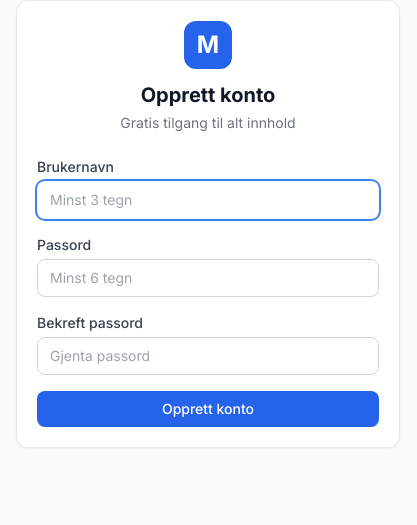
it: RegisterForm › viser feil ved for kort brukernavn
The width and height of the screenshot is (417, 525).
Type "ab" into the field labelled "Brukernavn" at {"x": 208, "y": 200}, box [37,181,379,219]
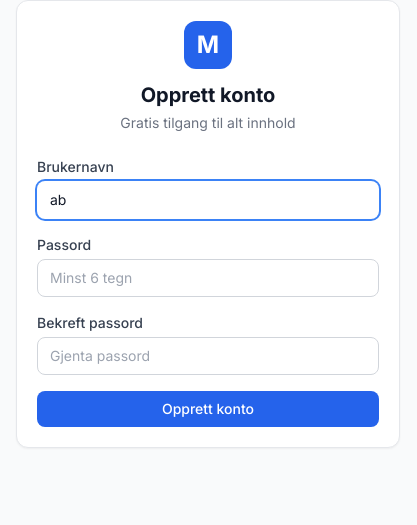
Type "password123" into the password field labelled "Passord" at {"x": 208, "y": 278}, box [37,259,379,297]
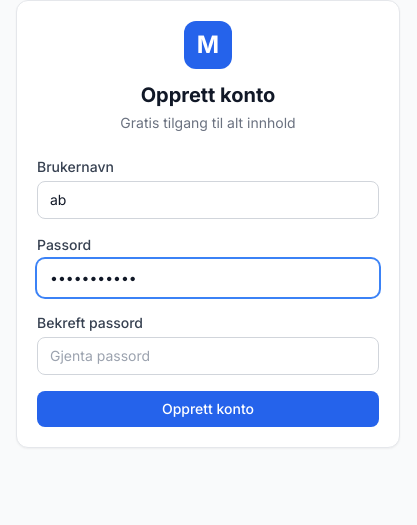
Type "password123" into the password field labelled "Bekreft passord" at {"x": 208, "y": 356}, box [37,337,379,375]
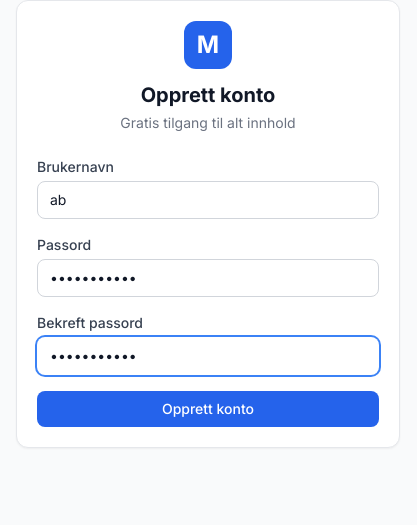
Click the button "Opprett konto" at {"x": 208, "y": 409}, box [37,391,379,427]
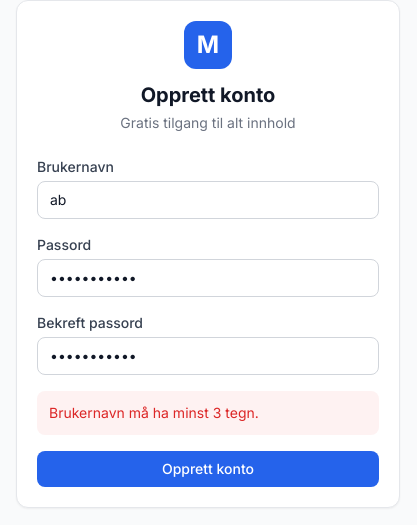
Check: the text "Brukernavn må ha minst 3 tegn." is shown, box [37,391,379,435]
